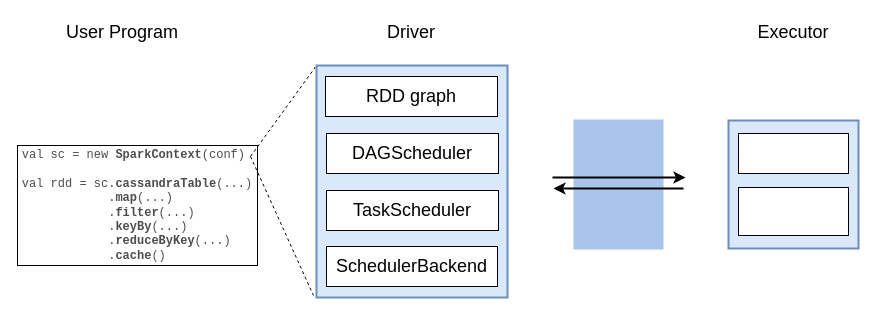
This 877x315 diagram has some shape labels left out. The shapes that lost their labels are listed below. From the top down, each one's centre as x and y in pixels, then its label:
At point 793,153: "Threads".
At point 618,184: "Cluster Manager".
At point 793,211: "Block Manager".
